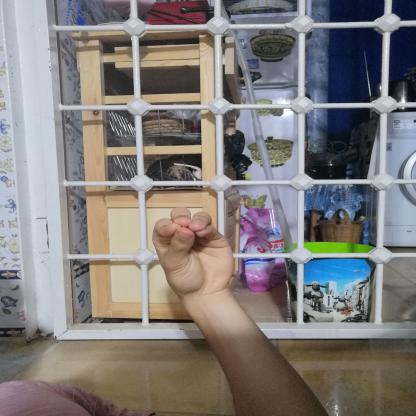HA: (134, 198, 251, 304)
